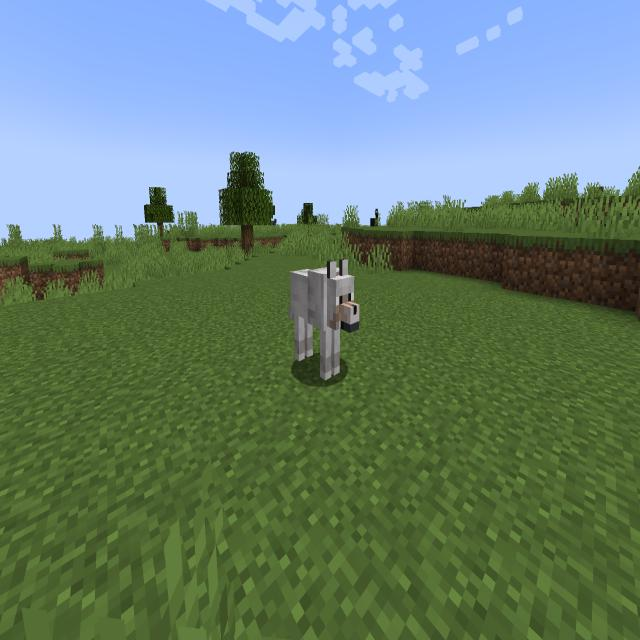Wolf: (278, 242, 364, 400)
